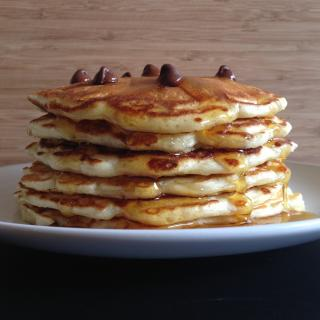Pancake: (30, 64, 284, 136), (27, 66, 284, 134)
